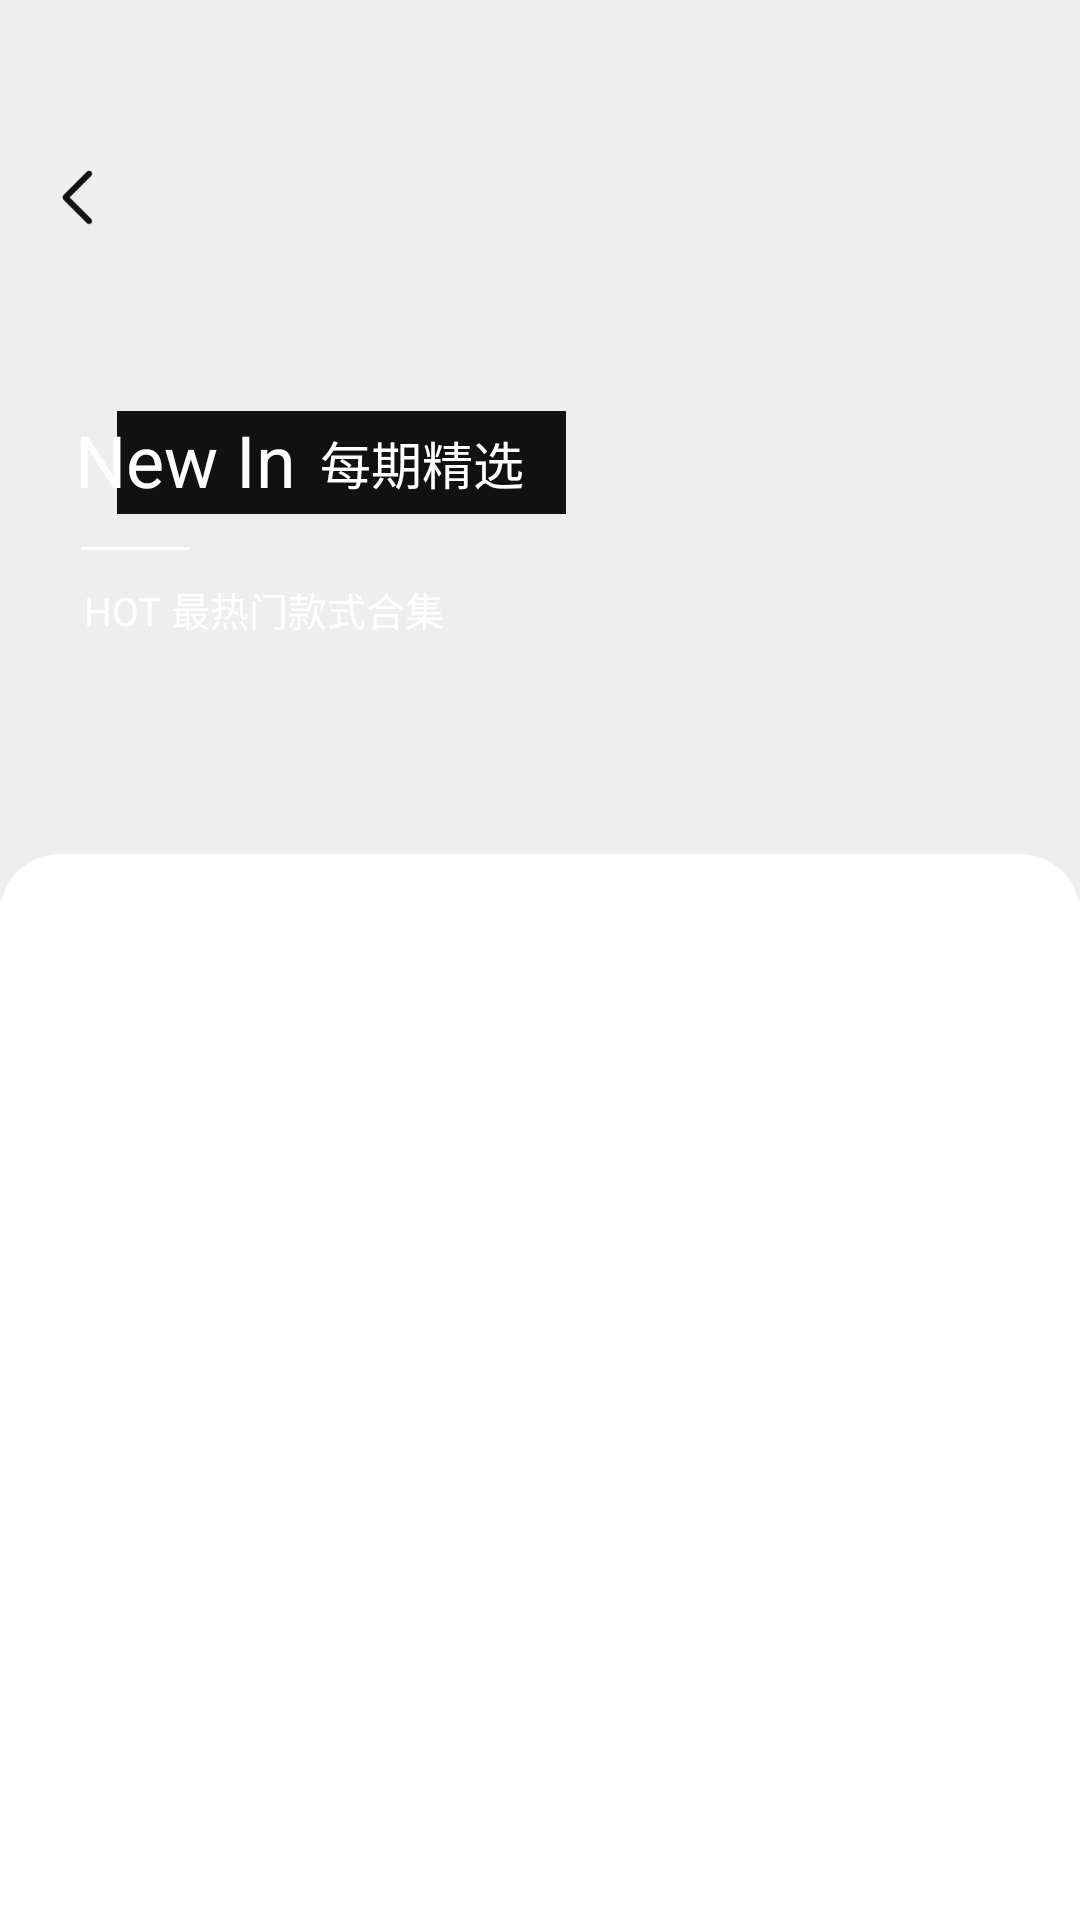

Screen size 1080 × 1920. Icon name, then its box in pixels as {"left": x1, "top": y1, "right": x2, "bottom": y2}:
back: {"left": 62, "top": 170, "right": 93, "bottom": 224}
